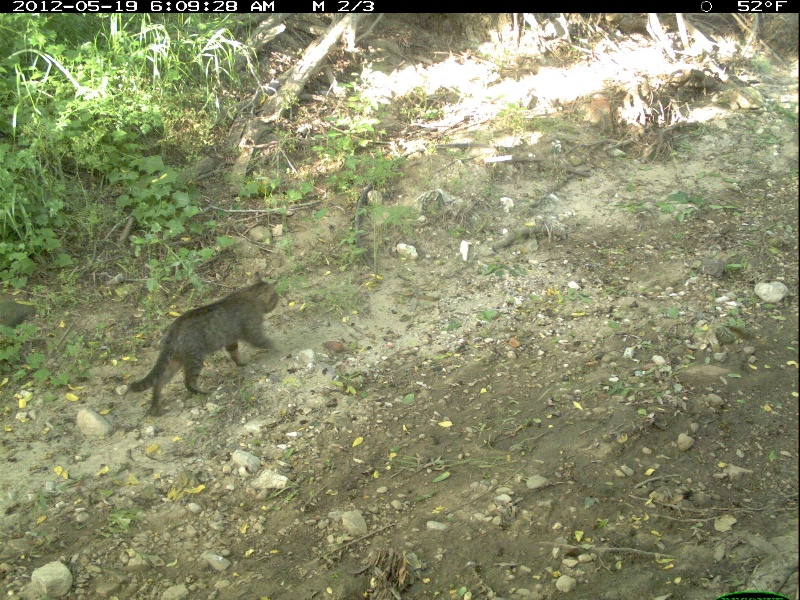cat: (128, 266, 281, 419)
